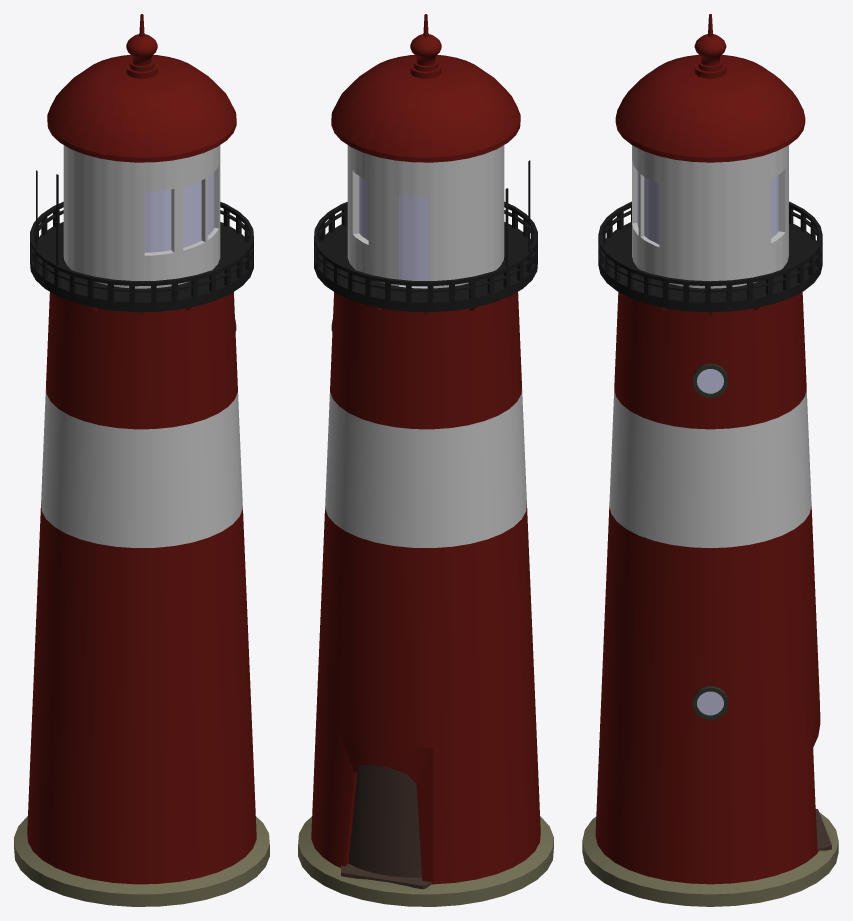
The model's file is Lighthouse-zeelandfbx.fbx.
3 renders of one model, left to right at view 1: azimuth 30°, elevation 25°; view 2: azimuth 150°, elevation 25°; view 3: azimuth 270°, elevation 25°, orthographic.
Parts seen in each view (by area): view 1: Cylinder, Cylinder.001, Cylinder.002; view 2: Cylinder, Cylinder.001, Cylinder.002, Cube; view 3: Cylinder, Cylinder.001, Cylinder.002, Cylinder.004, Cylinder.003.
Part boxes in pixels (<box>): Cylinder: <box>14,292,269,906</box>; Cylinder.001: <box>30,55,253,312</box>; Cylinder.002: <box>126,14,157,78</box>; Cylinder: <box>298,292,553,906</box>; Cylinder.001: <box>314,55,537,312</box>; Cylinder.002: <box>410,14,441,78</box>; Cube: <box>341,863,432,889</box>; Cylinder: <box>582,292,838,906</box>; Cylinder.001: <box>598,54,822,312</box>; Cylinder.002: <box>694,14,726,78</box>; Cylinder.004: <box>692,364,728,397</box>; Cylinder.003: <box>692,686,728,719</box>.
Bounding box in the file's own units: 1114 × 4021 × 1114.
